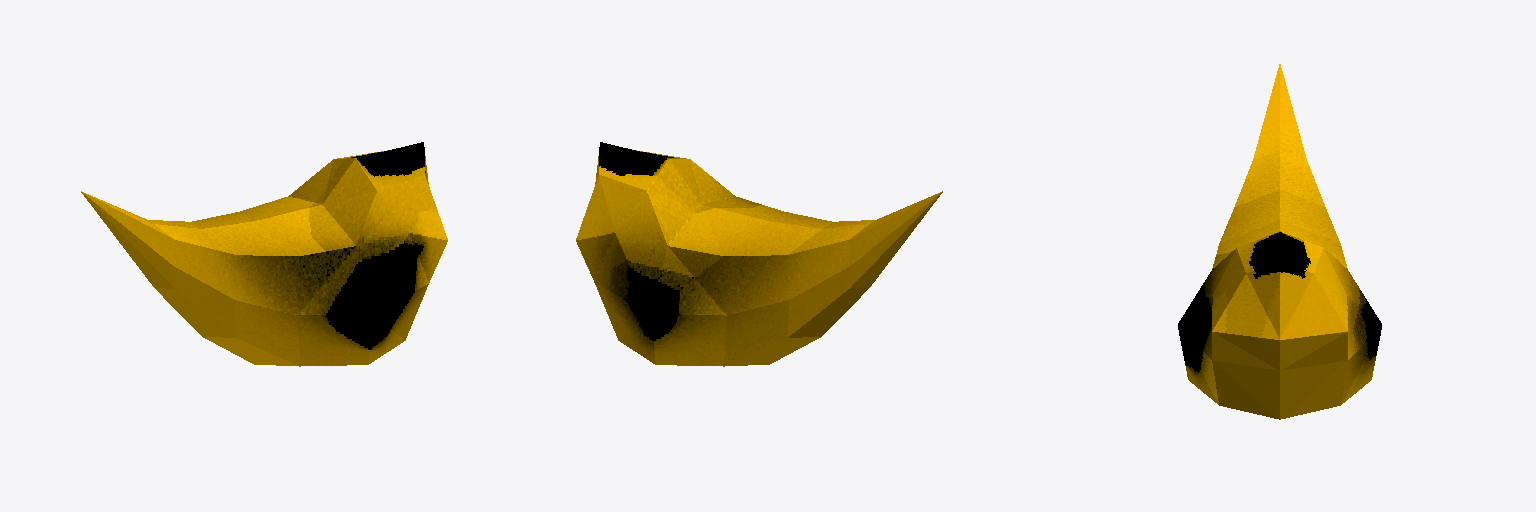
3 views of the same model, side by side, from view 1: azimuth 30°, elevation 25°; view 2: azimuth 150°, elevation 25°; view 3: azimuth 270°, elevation 25° (orthographic).
Parts seen in each view (by area): view 1: Blue_Cube.002; view 2: Blue_Cube.002; view 3: Blue_Cube.002.
Part boxes in pixels (x1,y1,x2,y2): Blue_Cube.002: (81,142,447,366); Blue_Cube.002: (576,142,942,366); Blue_Cube.002: (1178,64,1381,419).
Size of the model in its own units: 1.77 by 1.04 by 0.895.
1 materials, 1 textured.